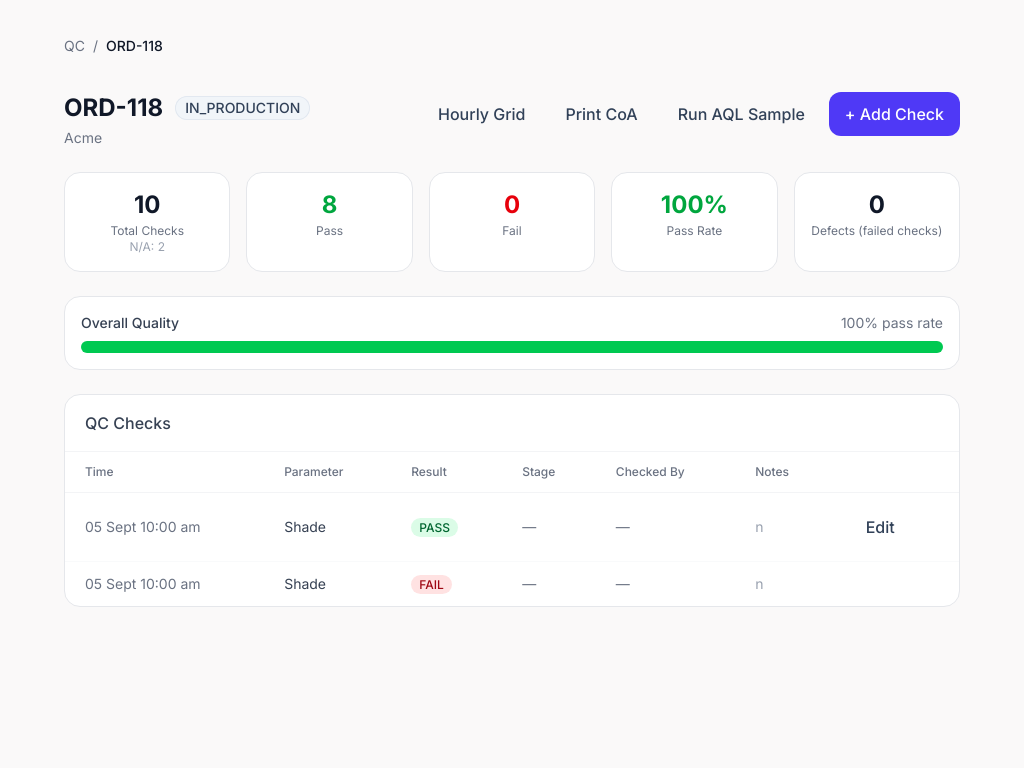
Test: B72 AQL form › a server refusal shows inline
This screenshot has width=1024, height=768.
Click the button "Run AQL Sample".
click(741, 114)  # box [662,92,821,136]
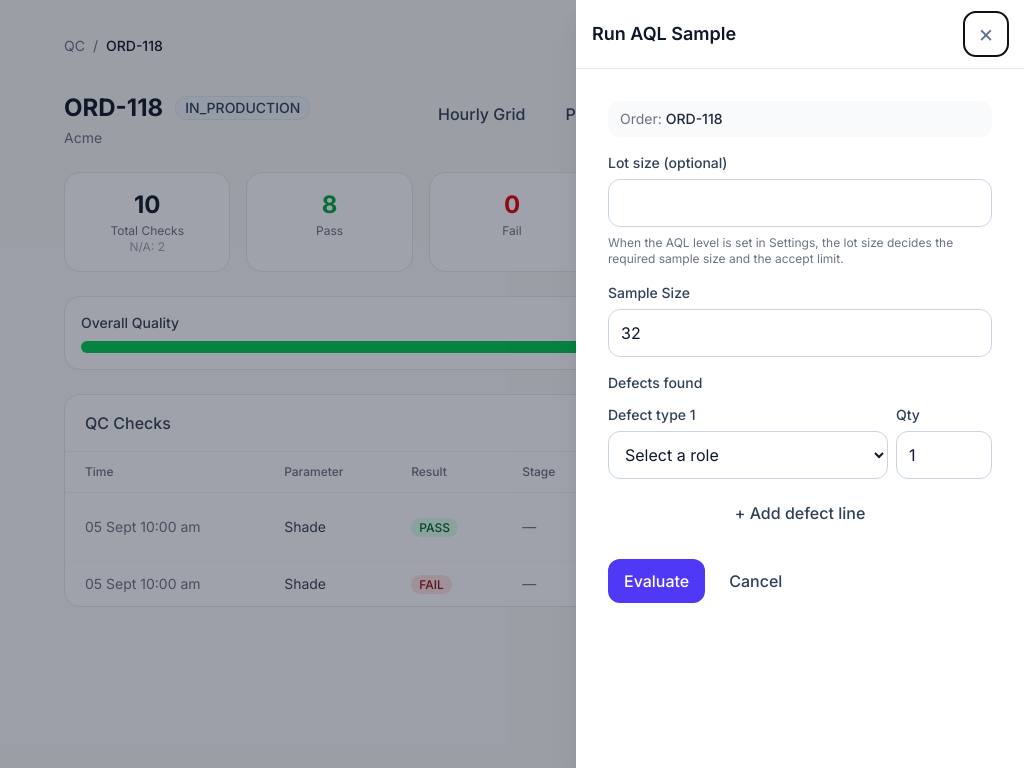
Click the button "Evaluate".
click(657, 581)  # box [608,559,705,603]
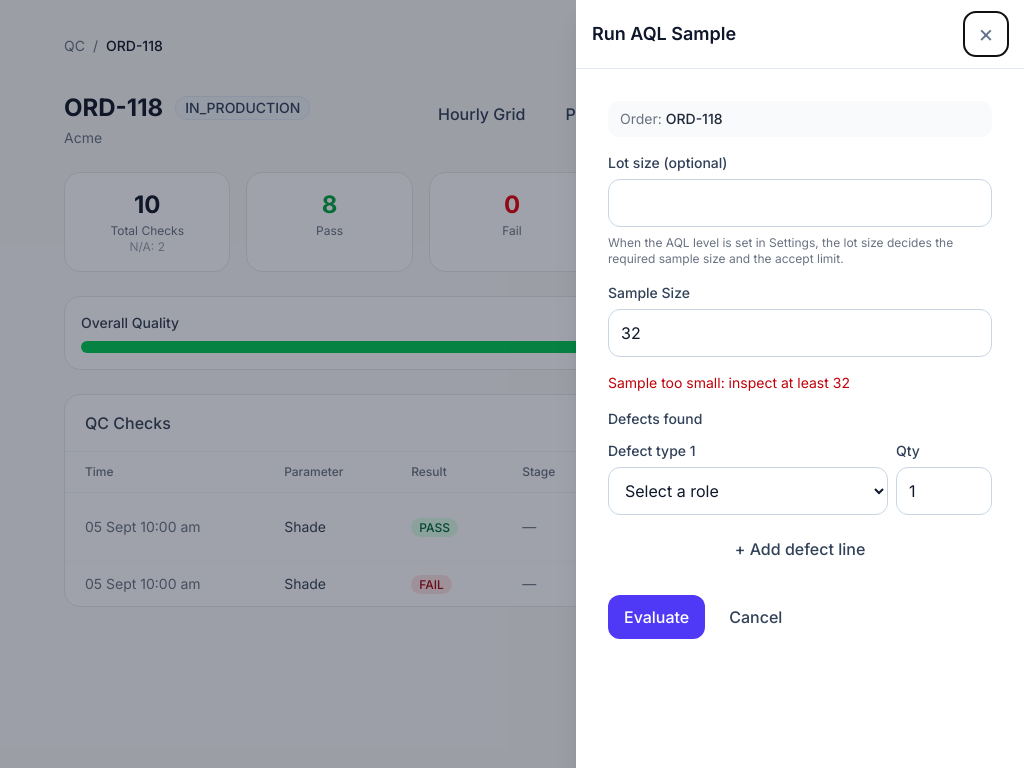
Expected: the message reads "Sample too small: inspect at least 32", [608,374,850,391]
